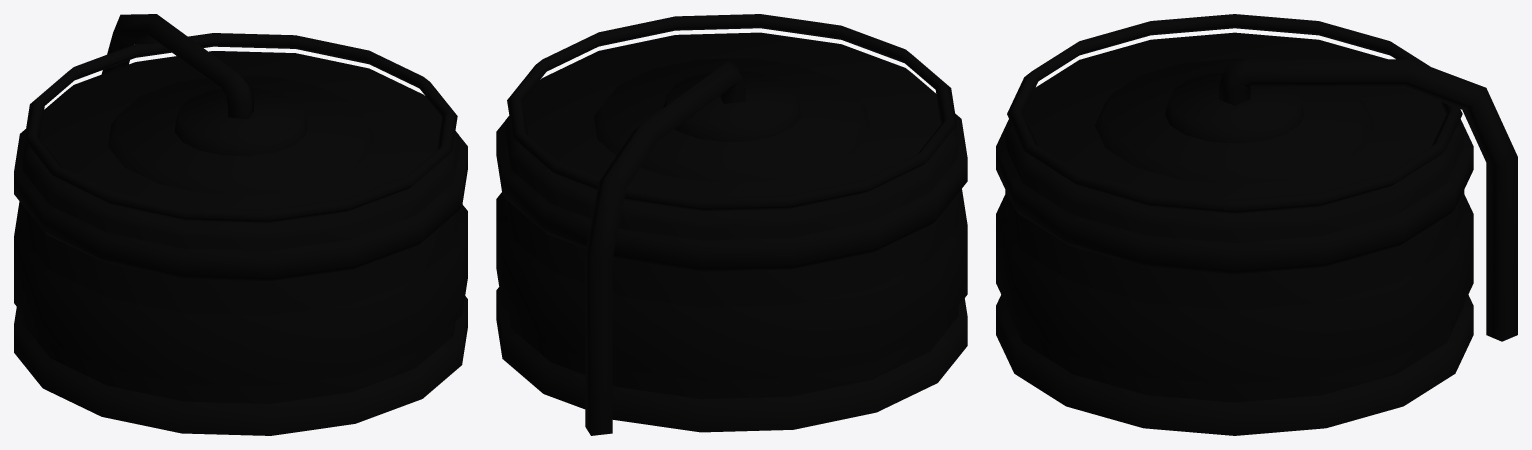
The model's file is detail-tank-large.glb.
3 views of the same model, side by side, from view 1: azimuth 30°, elevation 25°; view 2: azimuth 150°, elevation 25°; view 3: azimuth 270°, elevation 25° (orthographic). The views are drawn at different scales.
Parts seen in each view (by area): view 1: detail-tank-large; view 2: detail-tank-large; view 3: detail-tank-large.
Part boxes in pixels (x1=…): detail-tank-large: x1=14, y1=14, x2=467, y2=435; detail-tank-large: x1=496, y1=14, x2=967, y2=435; detail-tank-large: x1=996, y1=14, x2=1517, y2=435.
Bounding box in the file's own units: 1.51 × 0.9616 × 1.65.
Materials: 1 (1 with a texture image).
